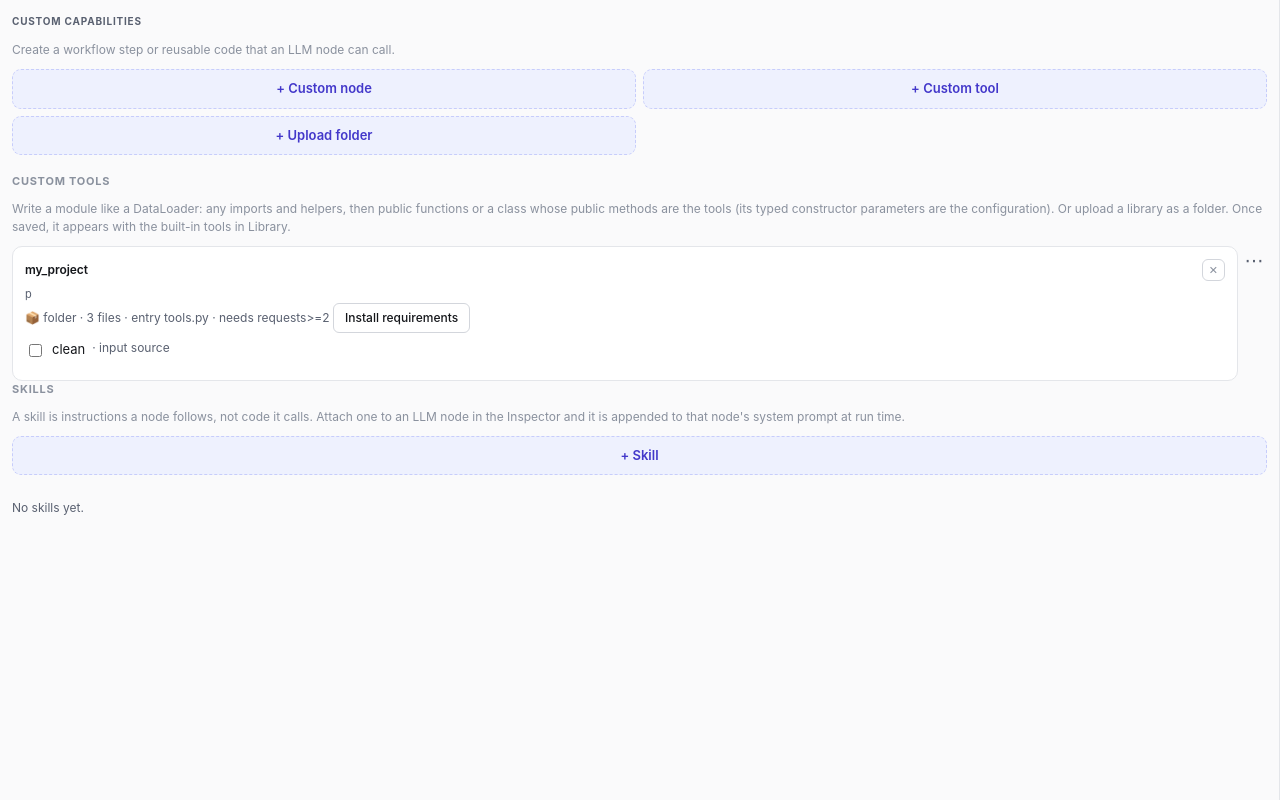
Test: a toolkit can be uploaded as a folder › installs a folder toolkit's requirements only when asked
The width and height of the screenshot is (1280, 800).
Click the button "Install requirements" at point(402, 318), box [333, 303, 470, 333]
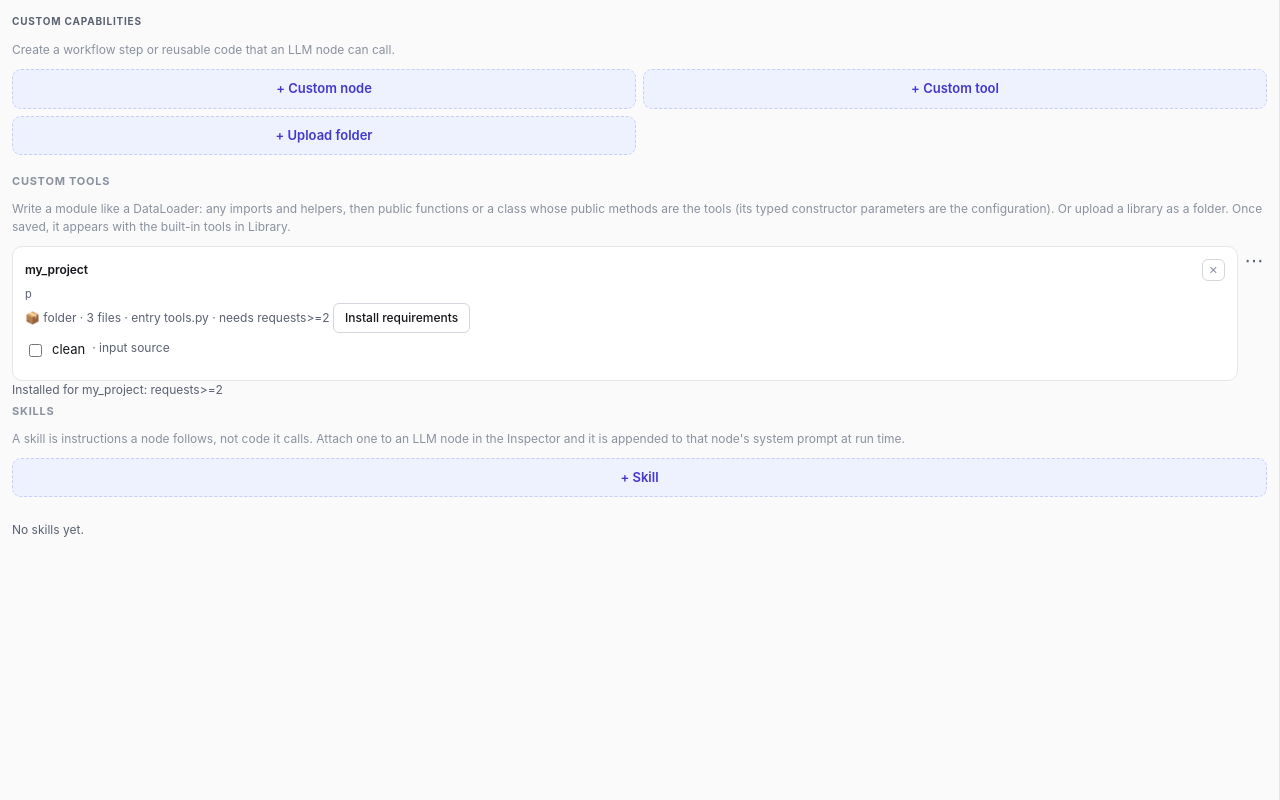
Check: the text "Installed for my_project: requests>=2" is shown, box [12, 382, 223, 397]
